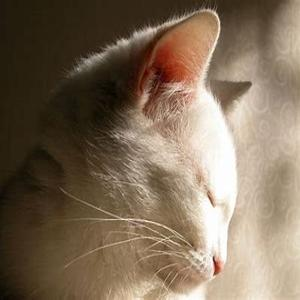cat: (55, 30, 235, 285)
